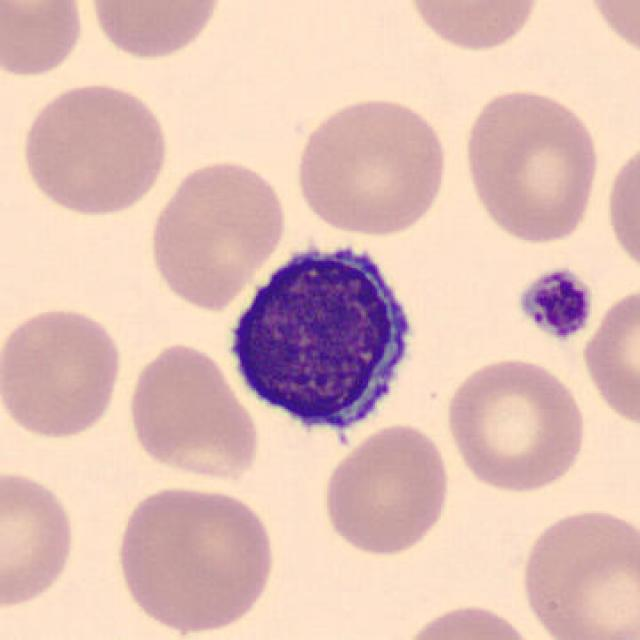Lymphocyte: (217, 229, 427, 448)
Platelets: (514, 264, 599, 344)
RBC: (110, 482, 281, 636), (458, 83, 604, 247), (289, 92, 452, 238), (144, 153, 290, 312), (16, 78, 172, 220), (441, 352, 590, 496), (123, 337, 263, 485), (318, 421, 454, 559), (0, 302, 126, 442), (516, 502, 638, 640), (0, 465, 80, 612), (83, 0, 227, 63), (578, 282, 638, 432), (400, 0, 546, 53), (0, 0, 89, 81), (396, 599, 544, 640), (602, 134, 640, 284), (580, 0, 638, 65)
